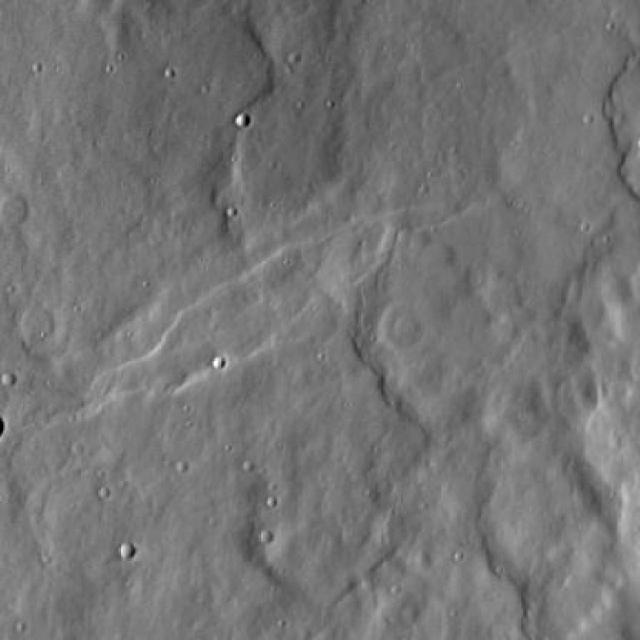crater: (380, 311, 422, 354), (19, 308, 53, 342), (234, 110, 251, 130), (118, 540, 136, 558)
